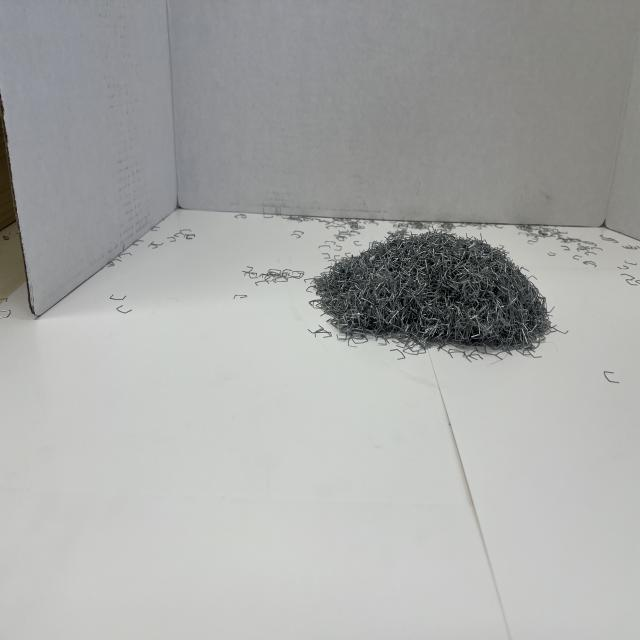staples: (309, 227, 559, 358)
